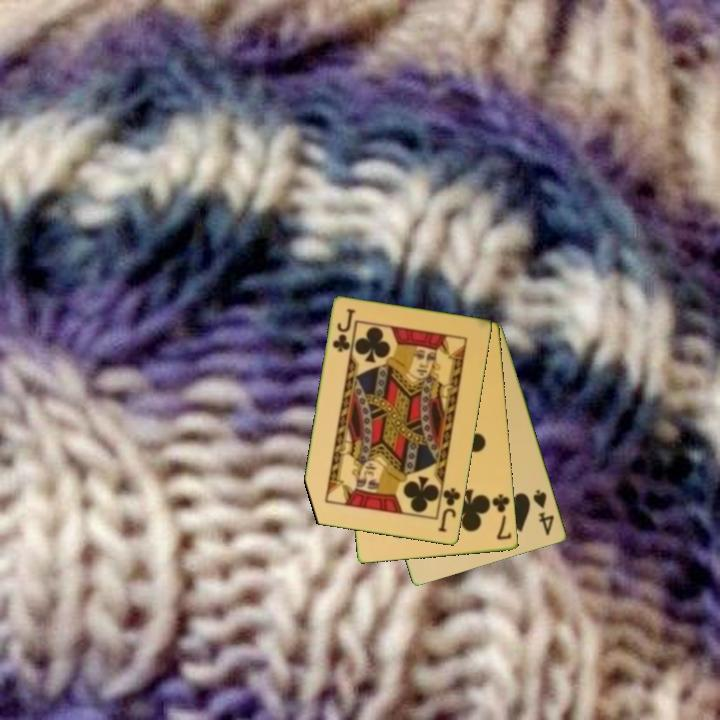4s: (530, 486, 557, 539)
7c: (489, 491, 515, 543)
Jc: (435, 481, 464, 536), (329, 305, 358, 355)
